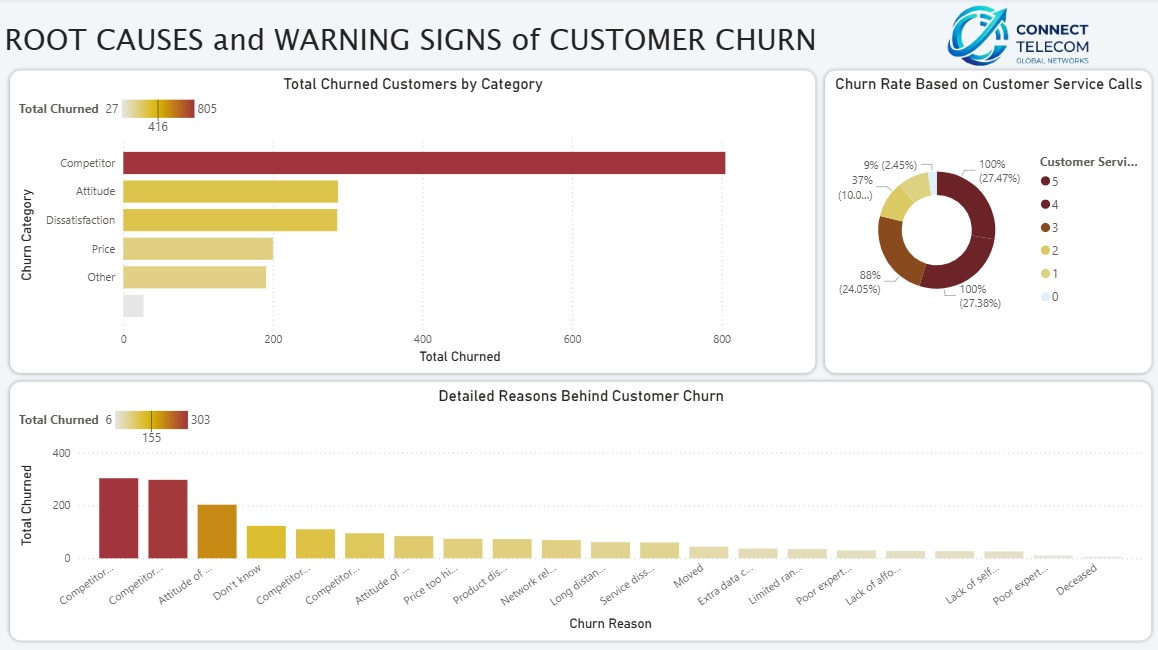

Layout of this report page (visuals, bound fields, positions):
{"tool":"powerbi","page":{"name":"Root Causes and Warning Signs of Customer Churn","canvas":[1280,720],"ordinal":8},"visuals":[{"type":"clusteredBarChart","title":"Total Churned Customers by Category","fields":{"Category":["Dim_Churn_Details.Churn Category"],"Y":["Calculations.Total Churned"]},"box":[11,79.6,883.7,332.1],"z":0},{"type":"clusteredColumnChart","title":"Detailed Reasons Behind Customer Churn","fields":{"Category":["Dim_Churn_Details.Churn Reason"],"Y":["Calculations.Total Churned"]},"box":[11,421.3,1252.8,284],"z":1000},{"type":"donutChart","title":"Churn Rate Based on Customer Service Calls","fields":{"Category":["Fact_Churn.Customer Service Calls"],"Y":["Calculations.Churn Rate"]},"box":[905.7,79.6,358.1,332.1],"z":2000},{"type":"textbox","box":[0,0,1263.8,82.3],"z":3000},{"type":"image","box":[968.8,0,299.1,79.6],"z":4000}]}

Visuals, with their boxes in screenshot pixels (x1, y1, x2, y2), scaled from the page's 1280x720 canvas onto the 1158x650 screenshot:
"Total Churned Customers by Category" clusteredBarChart: 10, 72, 809, 372
"Detailed Reasons Behind Customer Churn" clusteredColumnChart: 10, 380, 1143, 637
"Churn Rate Based on Customer Service Calls" donutChart: 819, 72, 1143, 372
textbox: 0, 0, 1143, 74
image: 876, 0, 1147, 72
